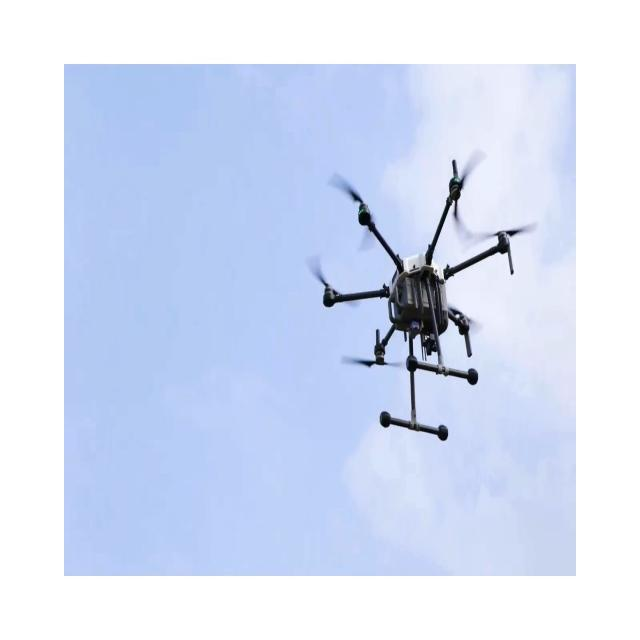drone: (305, 147, 538, 441)
